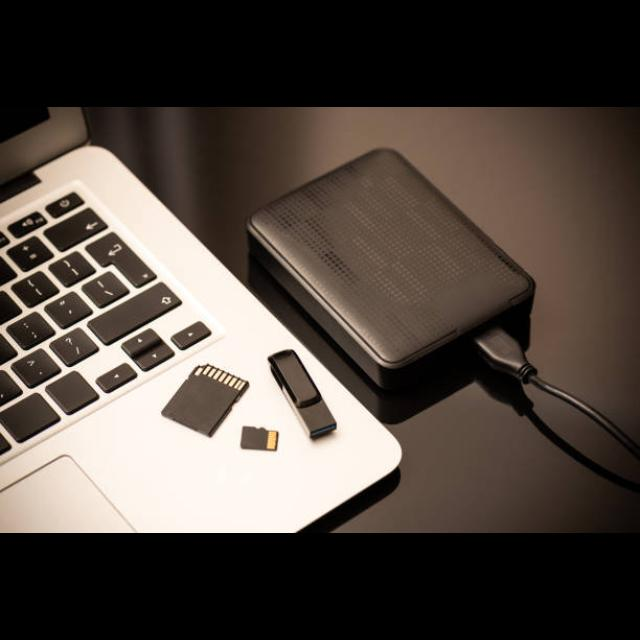HDD: (247, 149, 534, 391)
